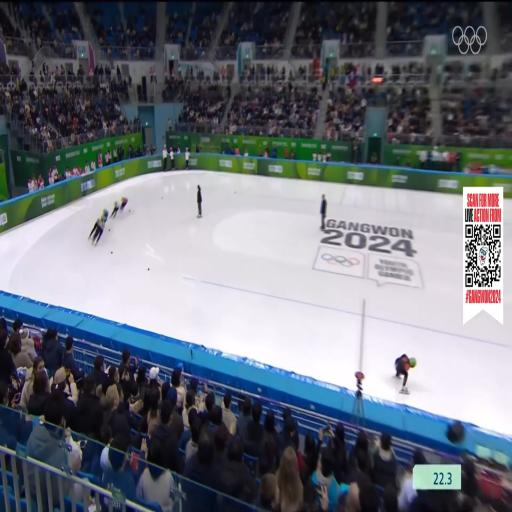Skater: (391, 346, 420, 396), (91, 219, 108, 246), (87, 215, 103, 242), (110, 200, 120, 220), (118, 196, 129, 214), (101, 209, 110, 224)
